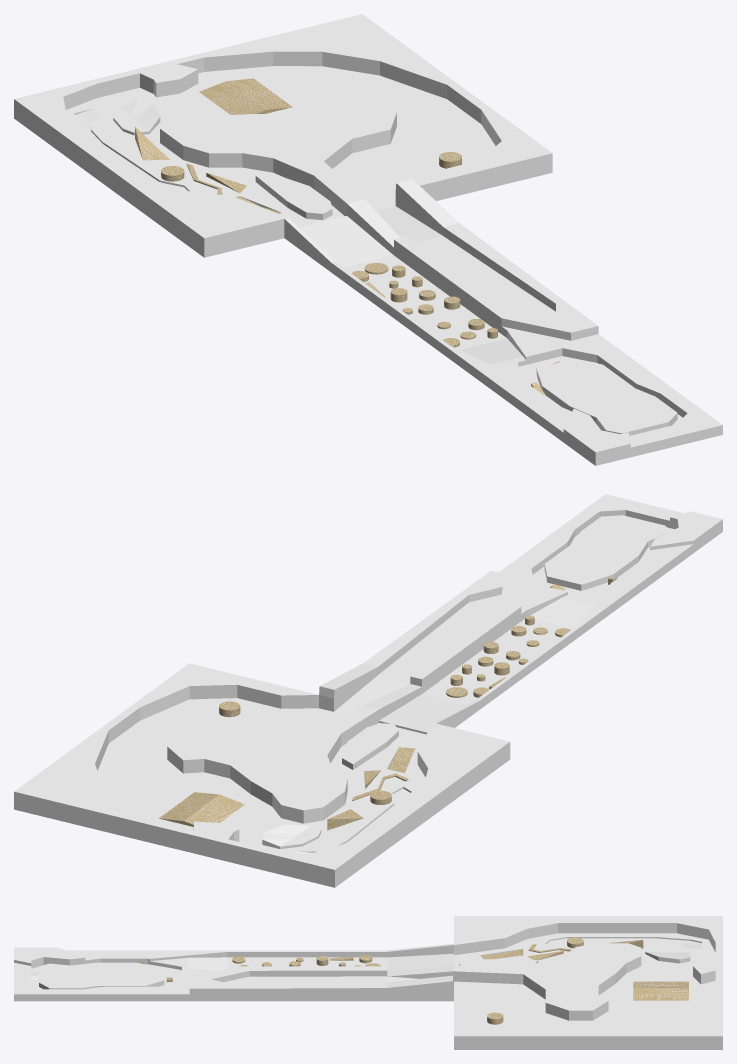
File: racetrack7-.dae
The picture shows the model from 3 angles, top to bottom: view 1: azimuth 30°, elevation 25°; view 2: azimuth 150°, elevation 25°; view 3: azimuth 270°, elevation 25°; orthographic projection. The views are drawn at different scales.
Visible parts, largest first — view 1: SketchUp (×5); view 2: SketchUp (×4); view 3: SketchUp (×6).
Boxes of the visible parts, x1=… form: SketchUp (×5): x1=14, y1=14, x2=722, y2=465; SketchUp (×4): x1=14, y1=494, x2=722, y2=887; SketchUp (×6): x1=14, y1=916, x2=722, y2=1049.
Size of the model in its own units: 405720 by 1011372 by 36731.
